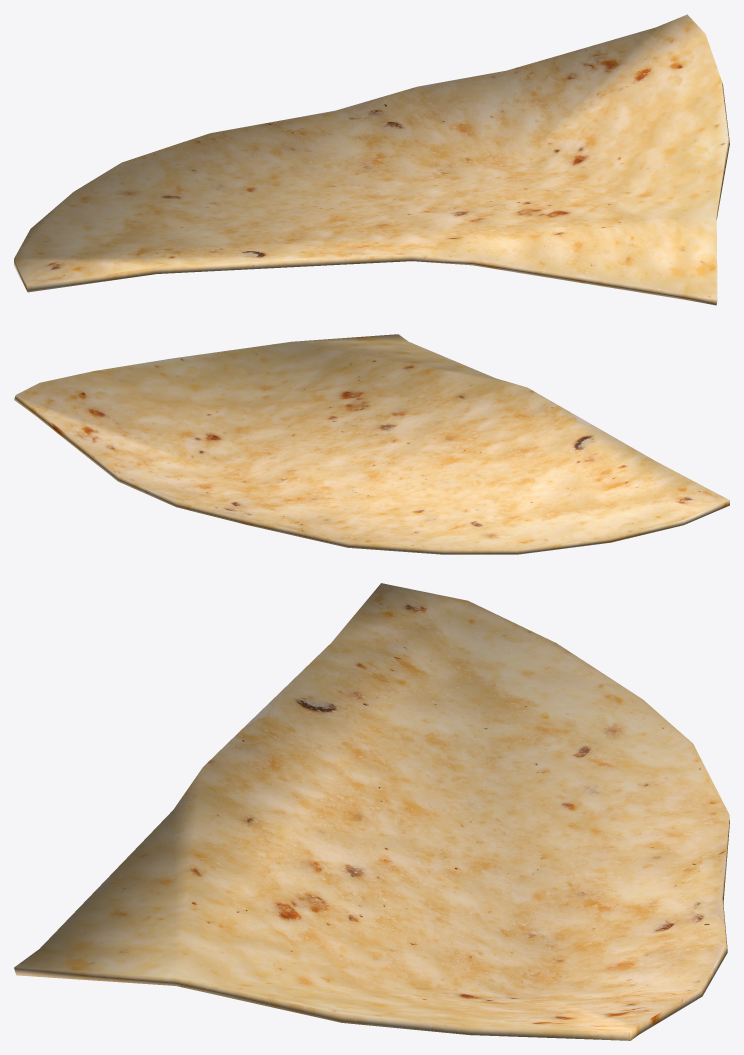
The model's file is corn_tortilla.glb.
3 views of the same model, one above another, from view 1: azimuth 30°, elevation 25°; view 2: azimuth 150°, elevation 25°; view 3: azimuth 270°, elevation 25° (orthographic). The views are drawn at different scales.
Visible parts, largest first — view 1: chip 1 bake 80 tris_0; view 2: chip 1 bake 80 tris_0; view 3: chip 1 bake 80 tris_0.
Part boxes in pixels (x1=…): chip 1 bake 80 tris_0: x1=14, y1=14, x2=729, y2=305; chip 1 bake 80 tris_0: x1=14, y1=334, x2=729, y2=554; chip 1 bake 80 tris_0: x1=14, y1=583, x2=729, y2=1040.
Bounding box in the file's own units: 1.24 × 0.1167 × 0.8017.
1 material, 1 textured.
